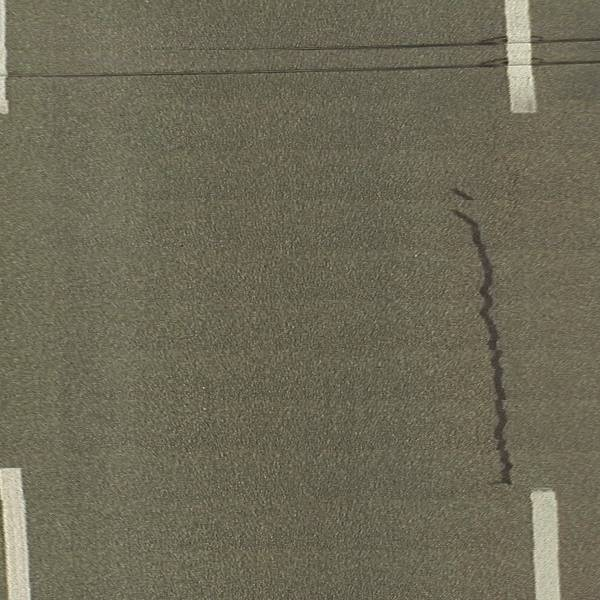road_damage: (447, 207, 514, 487), (21, 59, 497, 82)
